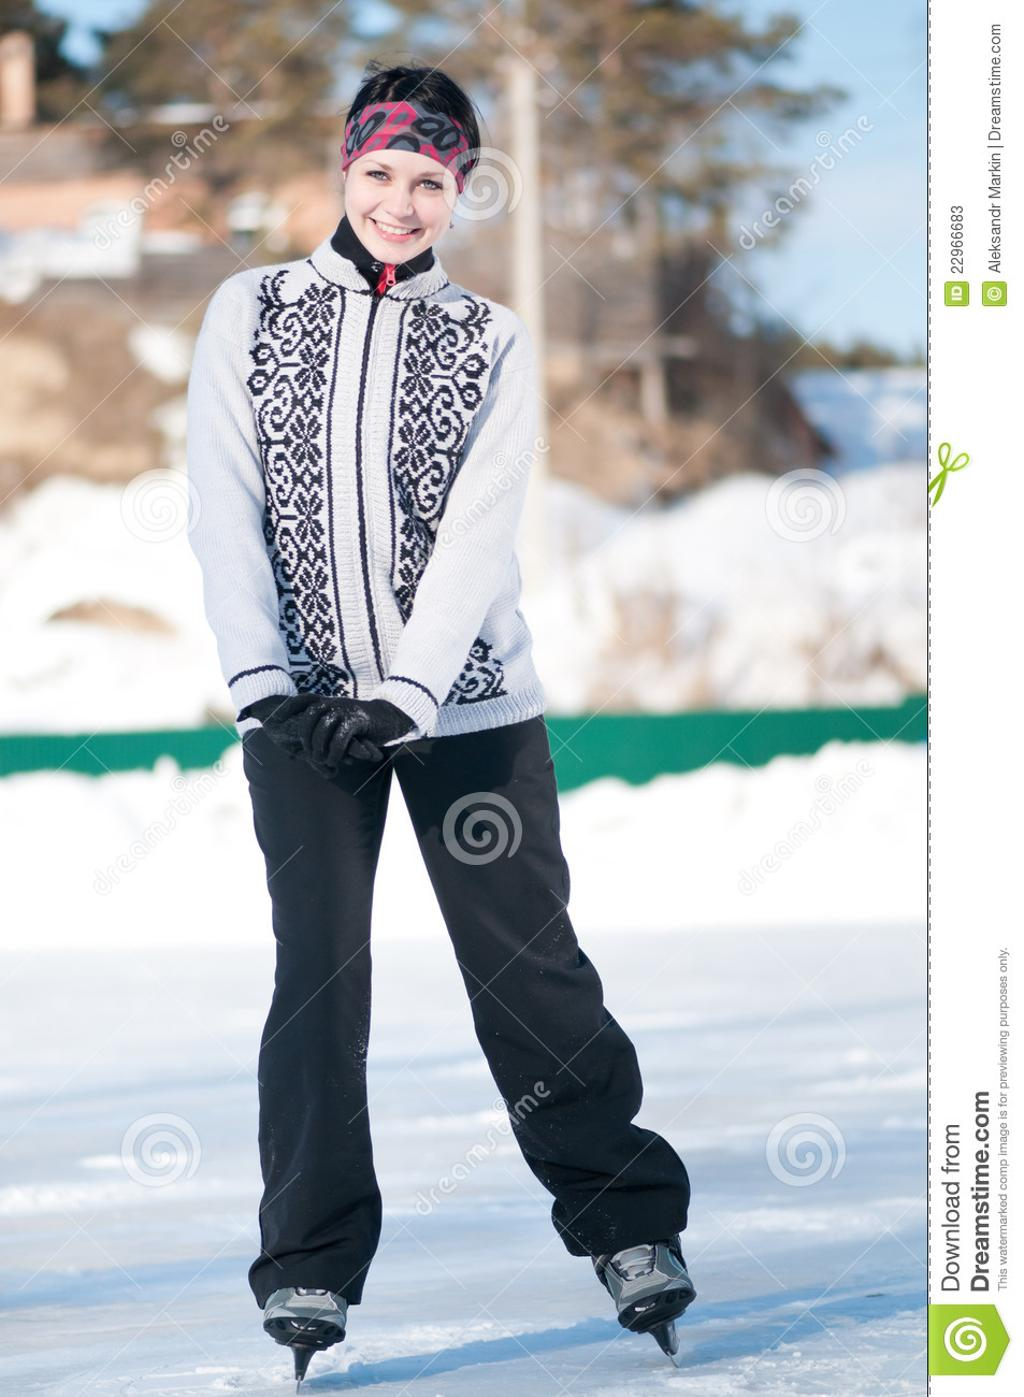face: (344, 142, 459, 265)
